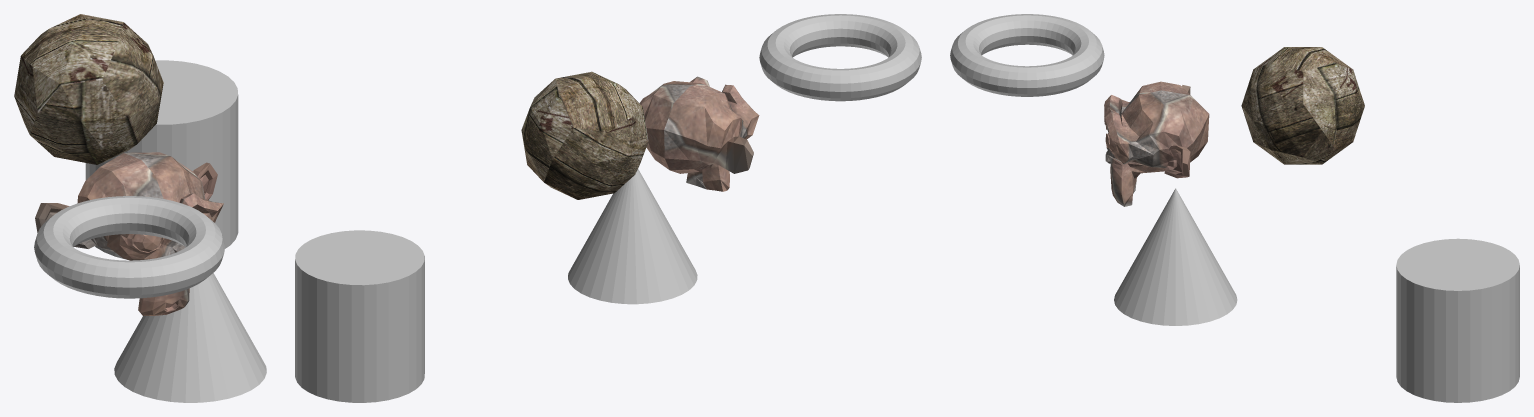
Rendered from mix.obj.
3 renders of one model, left to right at view 1: azimuth 30°, elevation 25°; view 2: azimuth 150°, elevation 25°; view 3: azimuth 270°, elevation 25°, orthographic. The views are drawn at different scales.
Parts seen in each view (by area): view 1: Icosphere, Torus, Cone, Cylinder, Suzanne; view 2: Cylinder, Icosphere, Cone, Torus, Suzanne; view 3: Cylinder, Icosphere, Cone, Torus, Suzanne.
Part boxes in pixels (bbox=[...]): Icosphere: bbox=[14, 14, 163, 164]; Torus: bbox=[34, 196, 224, 298]; Cone: bbox=[114, 273, 266, 402]; Cylinder: bbox=[85, 60, 238, 259]; Suzanne: bbox=[35, 152, 223, 315]; Cylinder: bbox=[295, 230, 424, 402]; Icosphere: bbox=[521, 71, 648, 199]; Cone: bbox=[568, 169, 697, 304]; Torus: bbox=[759, 14, 921, 101]; Suzanne: bbox=[639, 76, 759, 191]; Cylinder: bbox=[1396, 238, 1519, 402]; Icosphere: bbox=[1241, 47, 1364, 164]; Cone: bbox=[1114, 188, 1237, 325]; Torus: bbox=[950, 14, 1104, 96]; Suzanne: bbox=[1104, 81, 1209, 206].
Size of the model in its own units: 6.76 by 4.65 by 9.22.
